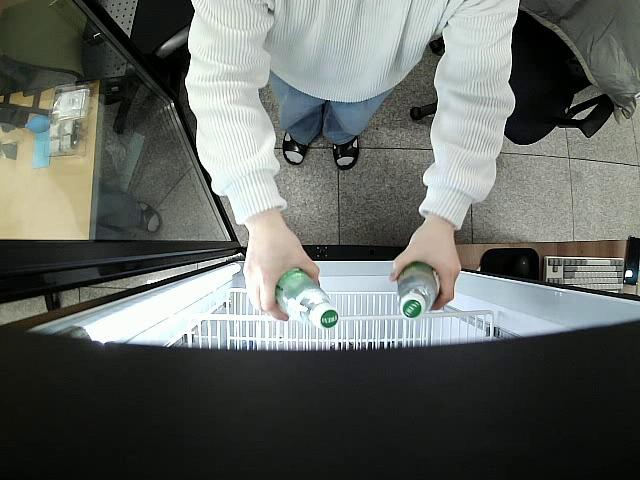00_hand: (241, 235, 321, 321), (389, 225, 462, 312)
18_trevi: (273, 268, 340, 330), (398, 260, 441, 318)
